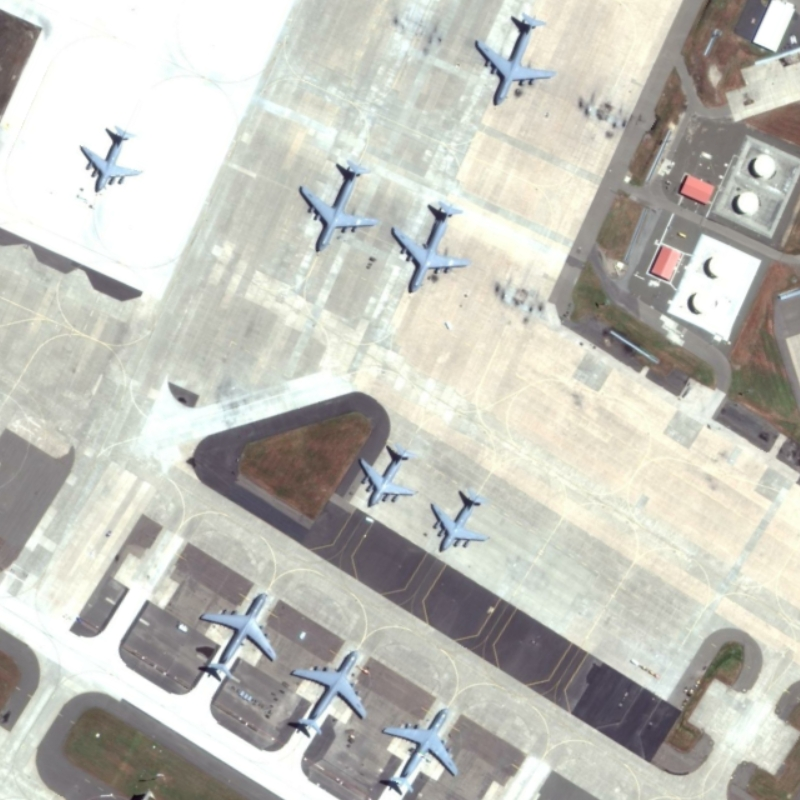A3: (77, 119, 144, 199), (355, 437, 419, 513), (427, 485, 493, 558)
A4: (472, 9, 559, 111), (389, 197, 472, 298), (284, 645, 371, 740), (298, 156, 381, 253), (378, 705, 461, 798), (195, 591, 280, 681)
